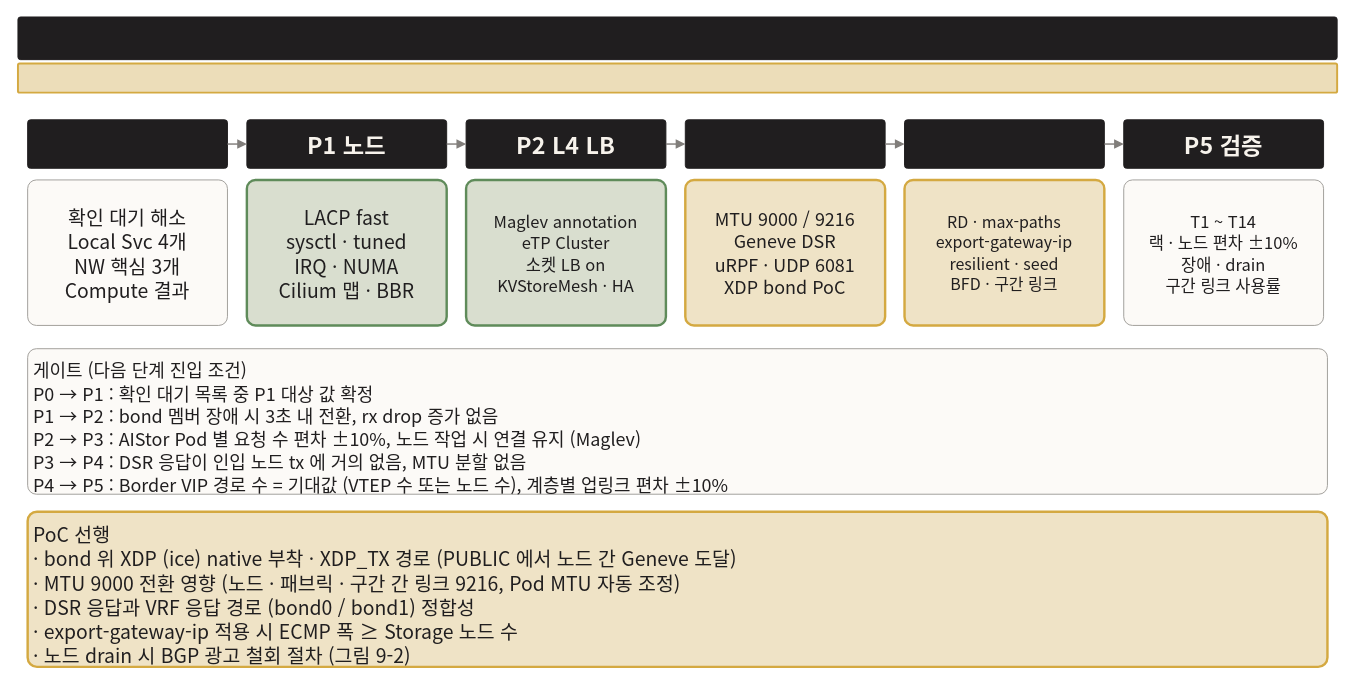
Some shapes in this 1354 by 685 pixel diagram are drawn without their labels. Each missing label, with the centre of its shape:
"P0 확인" belongs at [127,143].
"P3 DSR" belongs at [784,143].
"P4 패브릭" belongs at [1004,143].
"Y1 은 구축 시 한 번에 적용, 단계는 PoC 와 I Lake 역적용 순서. 단계마다 게이트 통과 후 다음 단계" belongs at [677,77].
"그림 9-1. 적용 로드맵 : 확인 → 위험 낮은 것 → LB → 패브릭 협업 → 검증" belongs at [677,38].
